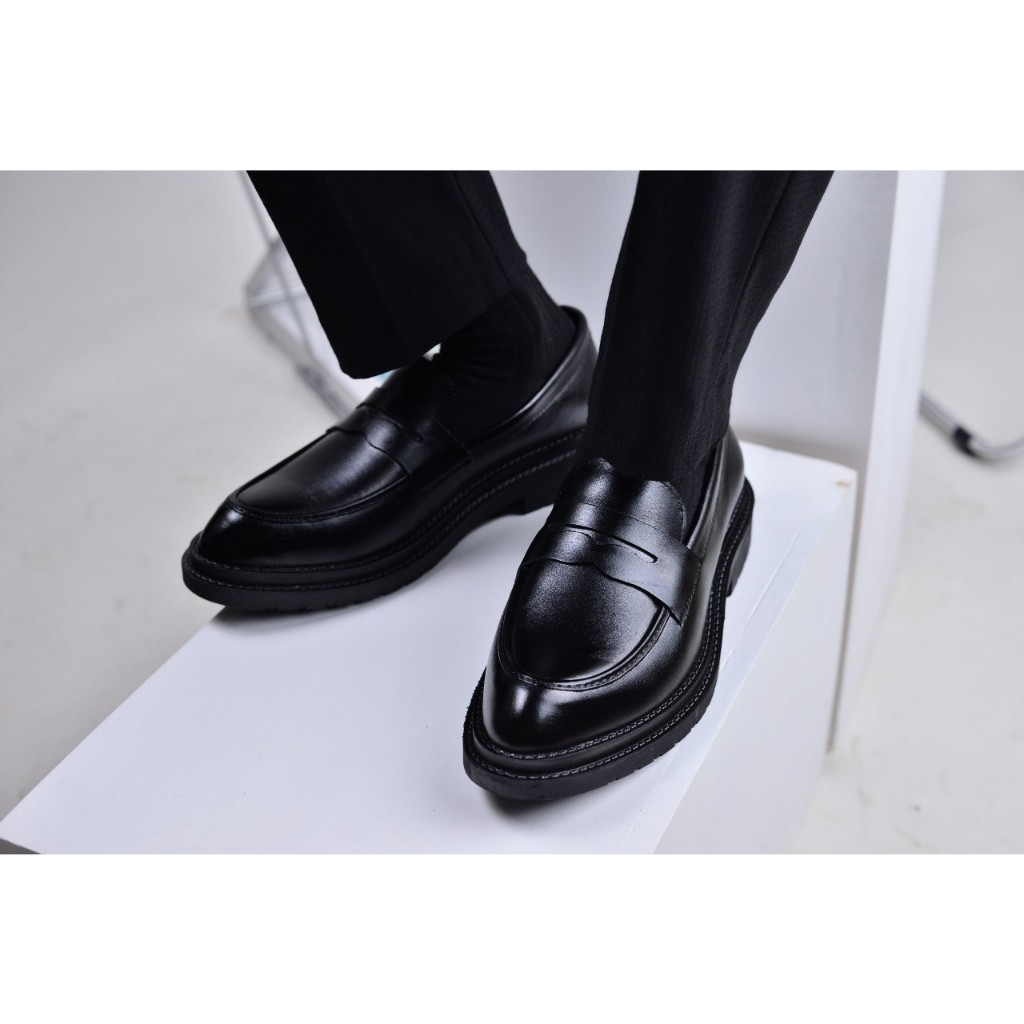loafers: (177, 302, 623, 609), (461, 419, 757, 803)
